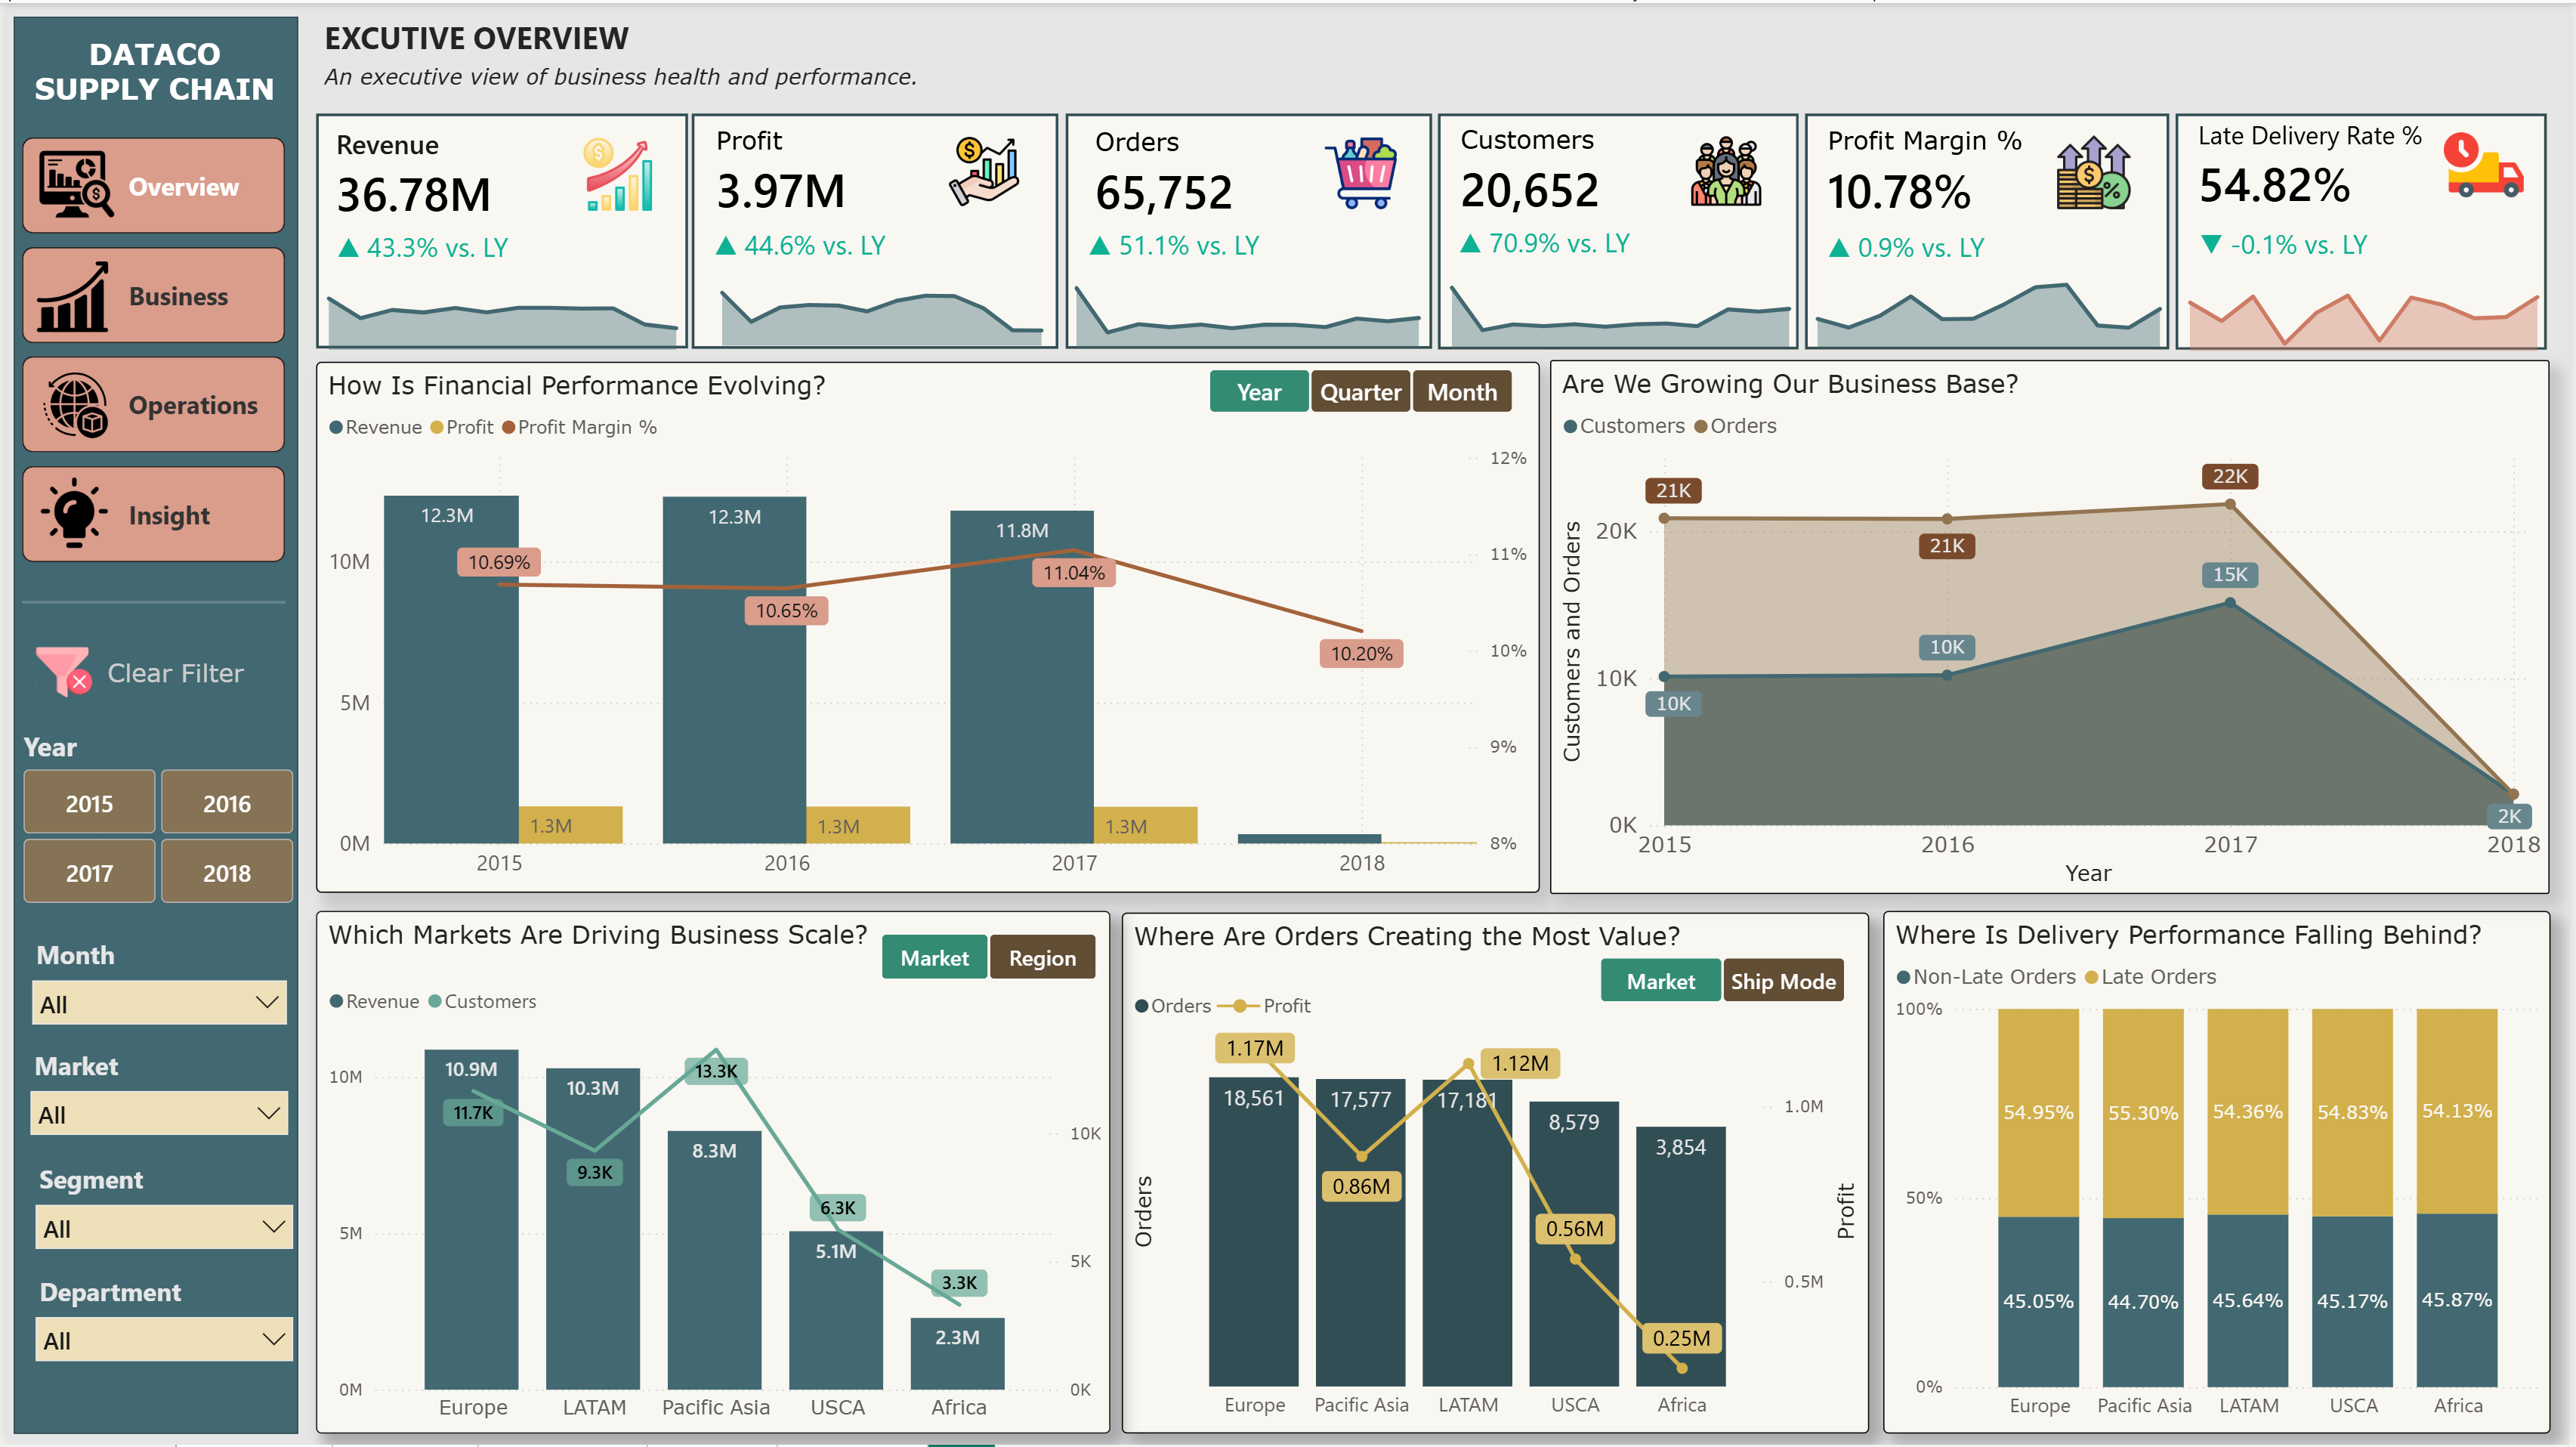

What the dashboard file says about the page in this screenshot:
{"tool":"powerbi","page":{"name":"Overview","canvas":[1920,1080],"ordinal":0},"visuals":[{"type":"shape","box":[5,10,213.3,1061.7],"z":0},{"type":"shape","box":[231.9,83,278.7,176],"z":0,"group":"g1"},{"type":"shape","box":[512.9,83.3,274.7,176.2],"z":0,"group":"g2"},{"type":"shape","box":[792.7,83.3,274.5,176.2],"z":0,"group":"g3"},{"type":"shape","box":[1072.5,83.3,270.4,176.7],"z":0,"group":"g4"},{"type":"shape","box":[1348,83.3,272.9,176.7],"z":0,"group":"g5"},{"type":"shape","box":[1625.5,83.3,278.1,177.1],"z":0,"group":"g6"},{"type":"cardVisual","fields":{"Data":["_Measure.Late Delivery Rate %"]},"box":[1625.5,83.3,278.1,77.9],"z":1000,"group":"g6"},{"type":"cardVisual","fields":{"Data":["_Measure.Customers"]},"box":[1072.5,88.9,270.4,77],"z":1000,"group":"g4"},{"type":"cardVisual","fields":{"Data":["_Measure.Profit"]},"box":[513.9,89.6,272.7,74.4],"z":1000,"group":"g2"},{"type":"cardVisual","fields":{"Data":["_Measure.Orders"]},"box":[797.8,90,270.8,77.7],"z":1000,"group":"g3"},{"type":"cardVisual","fields":{"Data":["_Measure.Profit Margin %"]},"box":[1348.1,90.8,272.7,73.5],"z":1000,"group":"g5"},{"type":"cardVisual","fields":{"Data":["_Measure.Revenue"]},"box":[232.9,92,276.2,73.1],"z":1000,"group":"g1"},{"type":"advancedSlicerVisual","fields":{"Values":["Dim_Date.Year"]},"box":[7.4,542.4,212.2,138.5],"z":1000},{"type":"group","id":"g1","title":"Srorecard Revenue","box":[231.1,83,281.2,176.6],"z":2000},{"type":"cardVisual","fields":{"Data":["_Measure.Late Delivery % Label YoY"]},"box":[1627.2,163,279.8,31.9],"z":2000,"group":"g6"},{"type":"cardVisual","fields":{"Data":["_Measure.Customers Label YoY"]},"box":[1071.6,163.8,272.1,29.7],"z":2000,"group":"g4"},{"type":"cardVisual","fields":{"Data":["_Measure.Orders Label YoY"]},"box":[792.7,164.4,274.5,30],"z":2000,"group":"g3"},{"type":"cardVisual","fields":{"Data":["_Measure.Profit Label YoY"]},"box":[512.9,164.6,276.2,29.2],"z":2000,"group":"g2"},{"type":"cardVisual","fields":{"Data":["_Measure.Profit Margin Label YoY"]},"box":[1348.5,166,274,30.5],"z":2000,"group":"g5"},{"type":"cardVisual","fields":{"Data":["_Measure.Total Revenue Label WoW"]},"box":[231.1,166.4,280.4,30.5],"z":2000,"group":"g1"},{"type":"group","id":"g2","title":"Scorecard Profit","box":[512.9,83.3,276.2,176.2],"z":3000},{"type":"lineChart","fields":{"Y":["_Measure.Profit"],"Category":["Dim_Date.Month"]},"box":[527.4,195.6,256.8,61.6],"z":3000,"group":"g2"},{"type":"lineChart","fields":{"Y":["_Measure.Orders"],"Category":["Dim_Date.Month"]},"box":[791.8,195.6,275.3,63.7],"z":3000,"group":"g3"},{"type":"lineChart","fields":{"Y":["_Measure.Customers"],"Category":["Dim_Date.Month"]},"box":[1074.5,195.6,271.2,63.7],"z":3000,"group":"g4"},{"type":"lineChart","fields":{"Category":["Dim_Date.Month"],"Y":["_Measure.Profit Margin %"]},"box":[1348,195.6,275.3,63.7],"z":3000,"group":"g5"},{"type":"lineChart","fields":{"Category":["Dim_Date.Month"],"Y":["_Measure.Late Delivery Rate %"]},"box":[1626.4,195.6,279.4,65.7],"z":3000,"group":"g6"},{"type":"lineChart","fields":{"Y":["_Measure.Revenue"],"Category":["Dim_Date.Month"]},"box":[232.9,195.9,279.4,63.7],"z":3000,"group":"g1"},{"type":"group","id":"g3","title":"Group 1","box":[791.8,83.3,276.7,176.2],"z":4000},{"type":"group","id":"g4","title":"Group 1","box":[1071.6,83.3,274,176.7],"z":5000},{"type":"group","id":"g5","title":"Group 1","box":[1348,83.3,275.3,176.7],"z":6000},{"type":"group","id":"g6","title":"Group 1","box":[1625.5,83.3,281.6,178.1],"z":7000},{"type":"slicer","fields":{"Values":["Dim_Date.Month"]},"box":[8.8,695.6,210.8,84],"z":8000},{"type":"slicer","fields":{"Values":["Dim_Geography.Market"]},"box":[7.9,778.7,213.2,85.3],"z":9000},{"type":"slicer","fields":{"Values":["Dim_Customer.Customer Segment"]},"box":[11.1,864,213.2,83.7],"z":10000},{"type":"textbox","box":[2.1,20.8,216.8,79.2],"z":11000},{"type":"lineClusteredColumnComboChart","title":"How Is Financial Performance Evolving?","fields":{"Category":["Dim_Date.Year"],"Y":["_Measure.Revenue","_Measure.Profit"],"Y2":["_Measure.Profit Margin %"]},"box":[232.2,268.9,916.7,397.8],"z":12000},{"type":"advancedSlicerVisual","fields":{"Values":["Para Q/M/D.Para Q/M/D"]},"box":[901.7,275,228.3,31.7],"z":13000},{"type":"lineClusteredColumnComboChart","title":"Where Are Orders Creating the Most Value?","fields":{"Category":["Dim_Geography.Market"],"Y":["_Measure.Orders"],"Y2":["_Measure.Profit"]},"box":[836,681.7,560,390],"z":14000},{"type":"actionButton","box":[17.7,476,191.6,50.1],"z":15000},{"type":"lineClusteredColumnComboChart","title":"Which Markets Are Driving Business Scale?","fields":{"Category":["Dim_Geography.Market"],"Y":["_Measure.Revenue"],"Y2":["_Measure.Customers"]},"box":[231.7,680,595,391.7],"z":16000},{"type":"shape","box":[11.4,420,197.1,57.1],"z":17000},{"type":"hundredPercentStackedColumnChart","title":"Where Is Delivery Performance Falling Behind?","fields":{"Category":["Dim_Geography.Market"],"Y":["_Measure.On-time Orders","_Measure.Late Orders"]},"box":[1406.7,680,500,391.7],"z":18000},{"type":"textbox","title":"EXCUTIVE OVERVIEW","box":[232.9,10,717.1,61.4],"z":19000},{"type":"slicer","fields":{"Values":["Dim_Product.Department Name"]},"box":[11.1,947.7,213.2,82.1],"z":20000},{"type":"lineChart","title":"Are We Growing Our Business Base?","fields":{"Category":["Dim_Date.Year"],"Y":["_Measure.Customers","_Measure.Orders"]},"box":[1156.7,267.8,748.9,400],"z":21000},{"type":"advancedSlicerVisual","fields":{"Values":["Parameter.Parameter"]},"box":[1194.5,715.5,184,32.1],"z":22000},{"type":"advancedSlicerVisual","fields":{"Values":["Para Geography.Para Geography"]},"box":[655.7,698,160.6,33.6],"z":23000},{"type":"pageNavigator","box":[11.1,100,197.2,319.4],"z":24000},{"type":"image","title":"Overview","box":[12.3,106.2,79.2,60],"z":25000},{"type":"image","title":"Overview","box":[11.5,193.8,75.4,53.1],"z":26000},{"type":"image","title":"Overview","box":[12.3,274.6,77.7,52.3],"z":27000},{"type":"image","title":"Overview","box":[10.8,353.8,80.8,55.4],"z":28000}]}

Visuals, with their boxes in screenshot pixels (x1, y1, x2, y2), scaled from the page's 1920x1080 canvas onto the 2576x1447 screenshot:
shape: [7, 14, 293, 1436]
shape: [311, 111, 685, 347]
shape: [688, 112, 1057, 348]
shape: [1064, 112, 1432, 348]
shape: [1439, 112, 1802, 348]
shape: [1808, 112, 2175, 348]
shape: [2181, 112, 2554, 349]
cardVisual - _Measure.Late Delivery Rate %: [2181, 112, 2554, 216]
cardVisual - _Measure.Customers: [1439, 119, 1802, 222]
cardVisual - _Measure.Profit: [690, 120, 1055, 220]
cardVisual - _Measure.Orders: [1070, 121, 1434, 224]
cardVisual - _Measure.Profit Margin %: [1808, 122, 2175, 220]
cardVisual - _Measure.Revenue: [313, 123, 683, 221]
advancedSlicerVisual - Dim_Date.Year: [10, 727, 295, 912]
"Srorecard Revenue" group: [310, 111, 687, 348]
cardVisual - _Measure.Late Delivery % Label YoY: [2183, 218, 2559, 261]
cardVisual - _Measure.Customers Label YoY: [1438, 219, 1802, 259]
cardVisual - _Measure.Orders Label YoY: [1064, 221, 1432, 261]
cardVisual - _Measure.Profit Label YoY: [688, 221, 1058, 260]
cardVisual - _Measure.Profit Margin Label YoY: [1809, 222, 2177, 263]
cardVisual - _Measure.Total Revenue Label WoW: [310, 223, 686, 264]
"Scorecard Profit" group: [688, 112, 1058, 348]
lineChart - _Measure.Profit x Dim_Date.Month: [708, 262, 1052, 345]
lineChart - _Measure.Orders x Dim_Date.Month: [1062, 262, 1432, 348]
lineChart - _Measure.Customers x Dim_Date.Month: [1441, 262, 1805, 348]
lineChart - Dim_Date.Month x _Measure.Profit Margin %: [1808, 262, 2178, 348]
lineChart - Dim_Date.Month x _Measure.Late Delivery Rate %: [2182, 262, 2557, 350]
lineChart - _Measure.Revenue x Dim_Date.Month: [313, 262, 687, 348]
"Group 1" group: [1062, 112, 1434, 348]
"Group 1" group: [1438, 112, 1805, 348]
"Group 1" group: [1808, 112, 2178, 348]
"Group 1" group: [2181, 112, 2559, 351]
slicer - Dim_Date.Month: [12, 932, 295, 1044]
slicer - Dim_Geography.Market: [11, 1044, 297, 1158]
slicer - Dim_Customer.Customer Segment: [15, 1158, 301, 1269]
textbox: [3, 28, 294, 134]
"How Is Financial Performance Evolving?" lineClusteredColumnComboChart: [311, 360, 1541, 893]
advancedSlicerVisual - Para Q/M/D.Para Q/M/D: [1209, 369, 1516, 411]
"Where Are Orders Creating the Most Value?" lineClusteredColumnComboChart: [1122, 914, 1873, 1436]
actionButton: [23, 638, 281, 705]
"Which Markets Are Driving Business Scale?" lineClusteredColumnComboChart: [311, 911, 1109, 1436]
shape: [15, 563, 280, 639]
"Where Is Delivery Performance Falling Behind?" hundredPercentStackedColumnChart: [1887, 911, 2558, 1436]
"EXCUTIVE OVERVIEW" textbox: [313, 14, 1274, 96]
slicer - Dim_Product.Department Name: [15, 1269, 301, 1380]
"Are We Growing Our Business Base?" lineChart: [1552, 359, 2556, 895]
advancedSlicerVisual - Parameter.Parameter: [1602, 959, 1849, 1002]
advancedSlicerVisual - Para Geography.Para Geography: [880, 935, 1095, 980]
pageNavigator: [15, 134, 280, 562]
"Overview" image: [17, 142, 123, 223]
"Overview" image: [15, 260, 116, 331]
"Overview" image: [17, 368, 121, 438]
"Overview" image: [14, 474, 123, 549]
